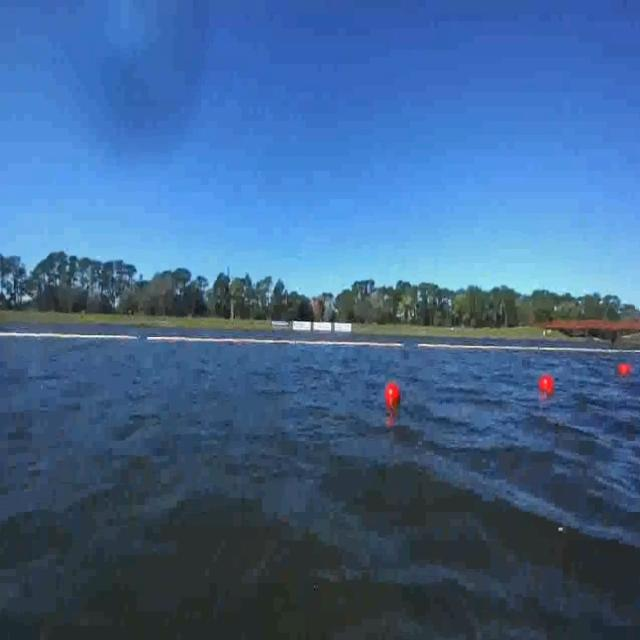red-buoy: (384, 381, 398, 406), (538, 376, 553, 394), (618, 362, 632, 376)
